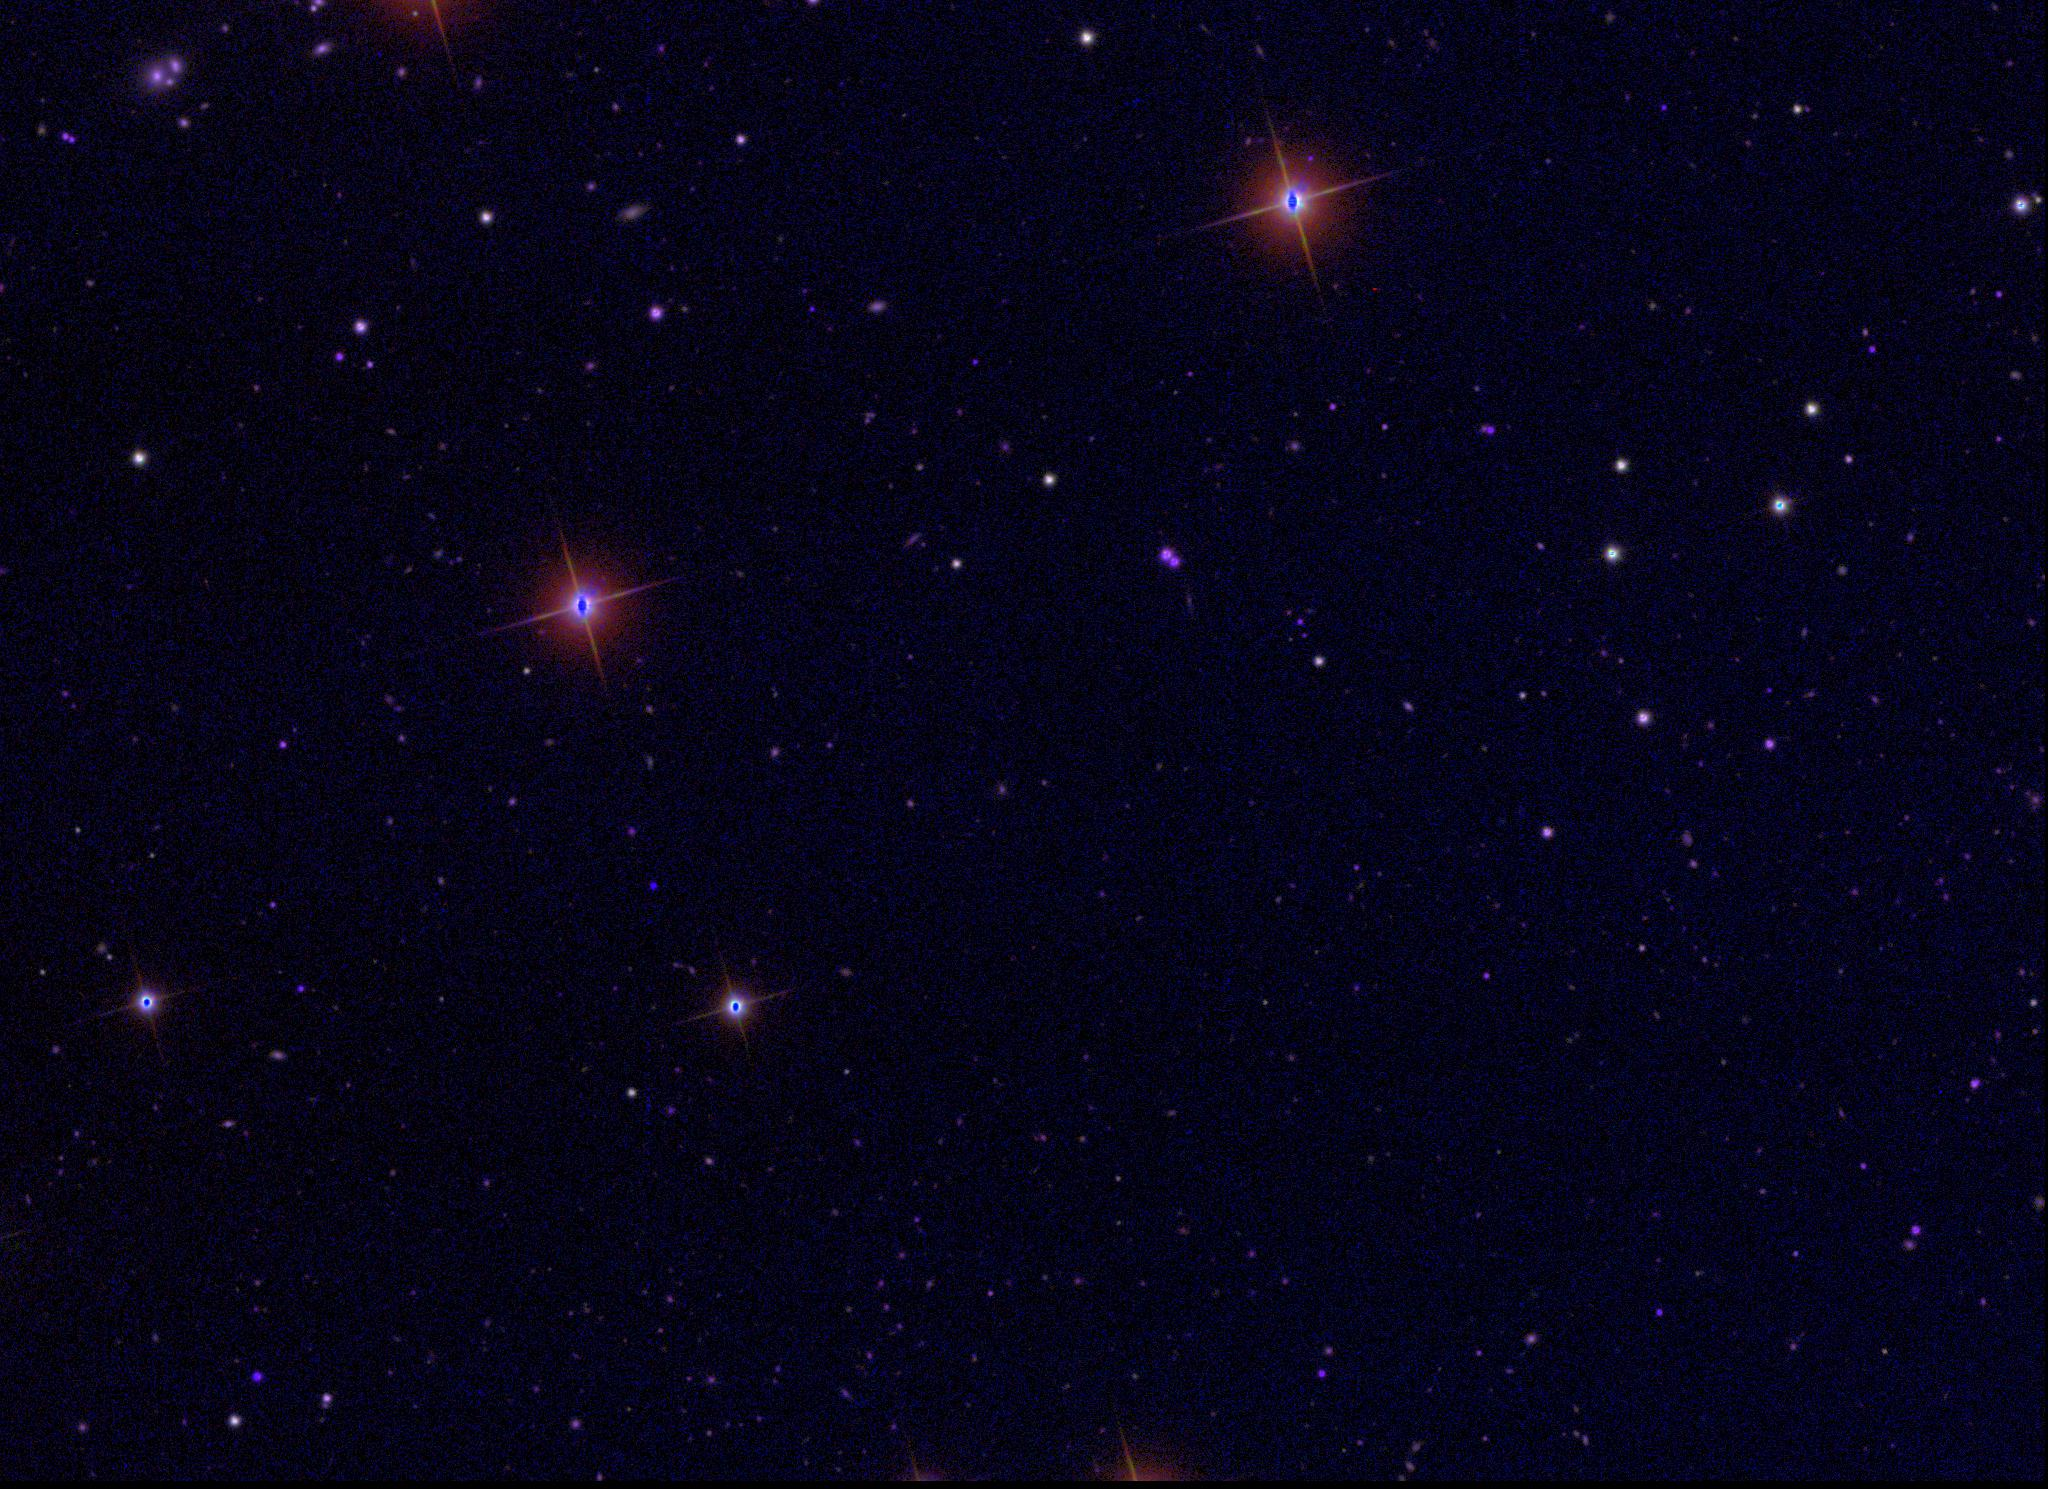L: (647, 878, 661, 892)
